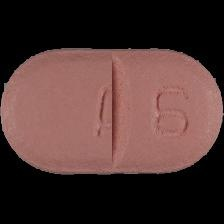52959-773: (0, 0, 224, 224)
